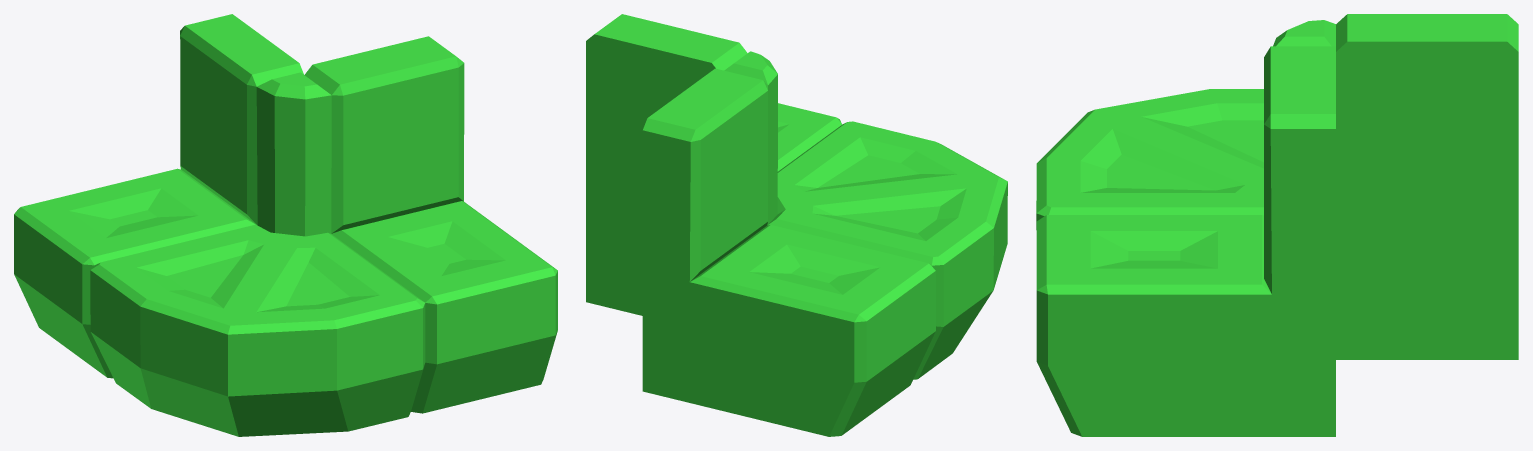
The model's file is Chair_10_Corner_Out_B.fbx.
3 views of the same model, side by side, from view 1: azimuth 30°, elevation 25°; view 2: azimuth 150°, elevation 25°; view 3: azimuth 270°, elevation 25° (orthographic). The views are drawn at different scales.
Visible parts, largest first — view 1: Chair_10_Corner_Out_B; view 2: Chair_10_Corner_Out_B; view 3: Chair_10_Corner_Out_B.
Boxes of the visible parts, box(x1,y1,x2,y2) form: Chair_10_Corner_Out_B: box(14, 14, 557, 436); Chair_10_Corner_Out_B: box(586, 14, 1007, 436); Chair_10_Corner_Out_B: box(1036, 14, 1518, 436).
Bounding box in the file's own units: 121 × 87.99 × 121.
